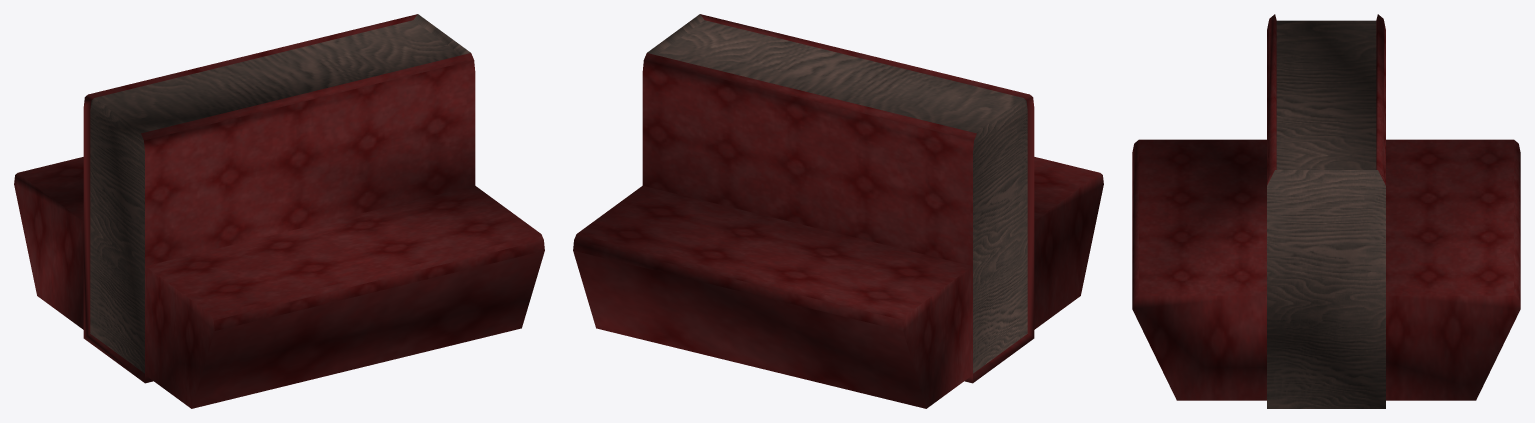
Rendered from couch.obj.
3 renders of one model, left to right at view 1: azimuth 30°, elevation 25°; view 2: azimuth 150°, elevation 25°; view 3: azimuth 270°, elevation 25°, orthographic. The views are drawn at different scales.
Parts seen in each view (by area): view 1: Cube.001; view 2: Cube.001; view 3: Cube.001.
Boxes of the visible parts, left/top/right/bottom form: Cube.001: left=14, top=14, right=544, bottom=408; Cube.001: left=573, top=14, right=1103, bottom=408; Cube.001: left=1132, top=14, right=1520, bottom=408.
Size of the model in its own units: 2.24 by 1.6 by 2.36.
2 materials, 2 textured.
